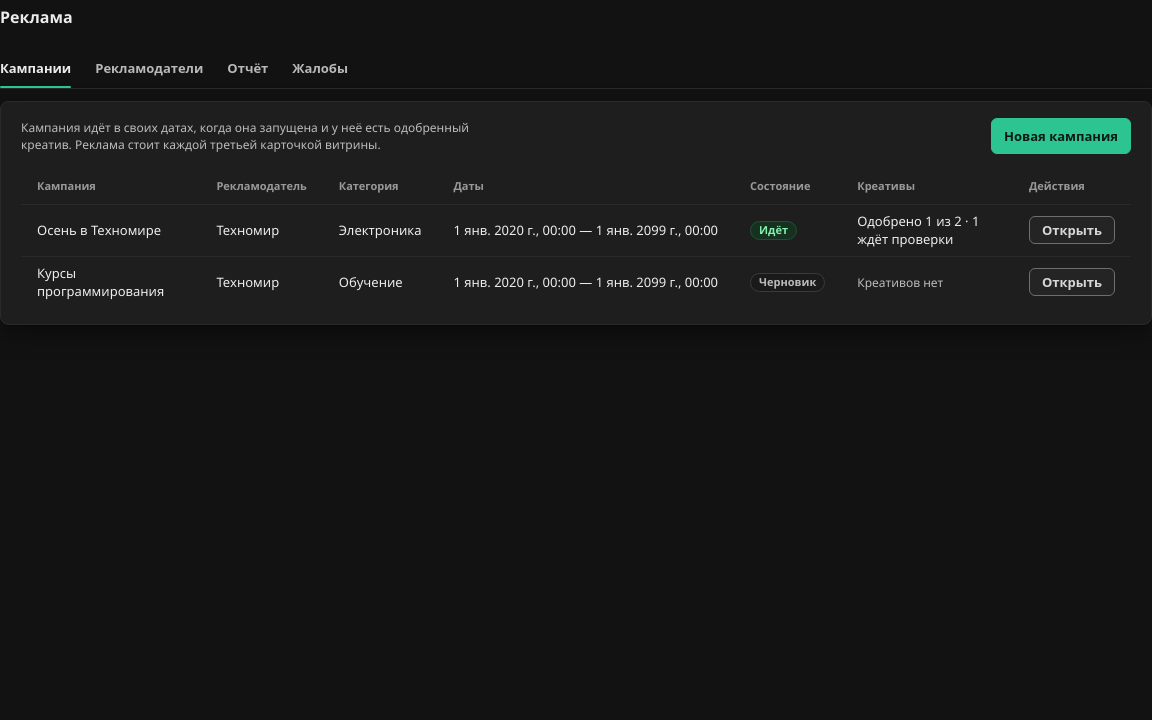
Scenario: AdsScreen — кампании › в списке категорий — здоровье, финансы и социальная реклама; у каждой сказано условие закона
Expected: the text "Осень в Техномире" is shown, [21, 204, 200, 256]
Click the button "Новая кампания" at x=1061, y=136, box [991, 118, 1131, 154]
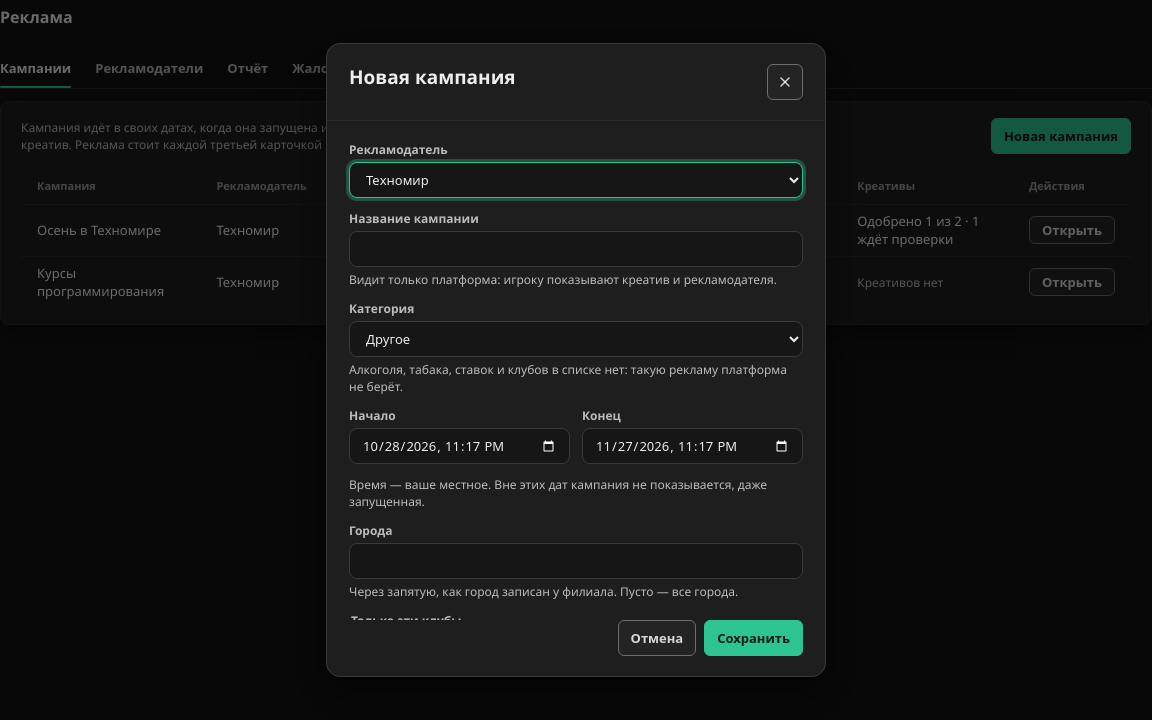
Select "Финансы" in the dropdown labelled "Категория" at x=576, y=339, box [349, 321, 803, 357]
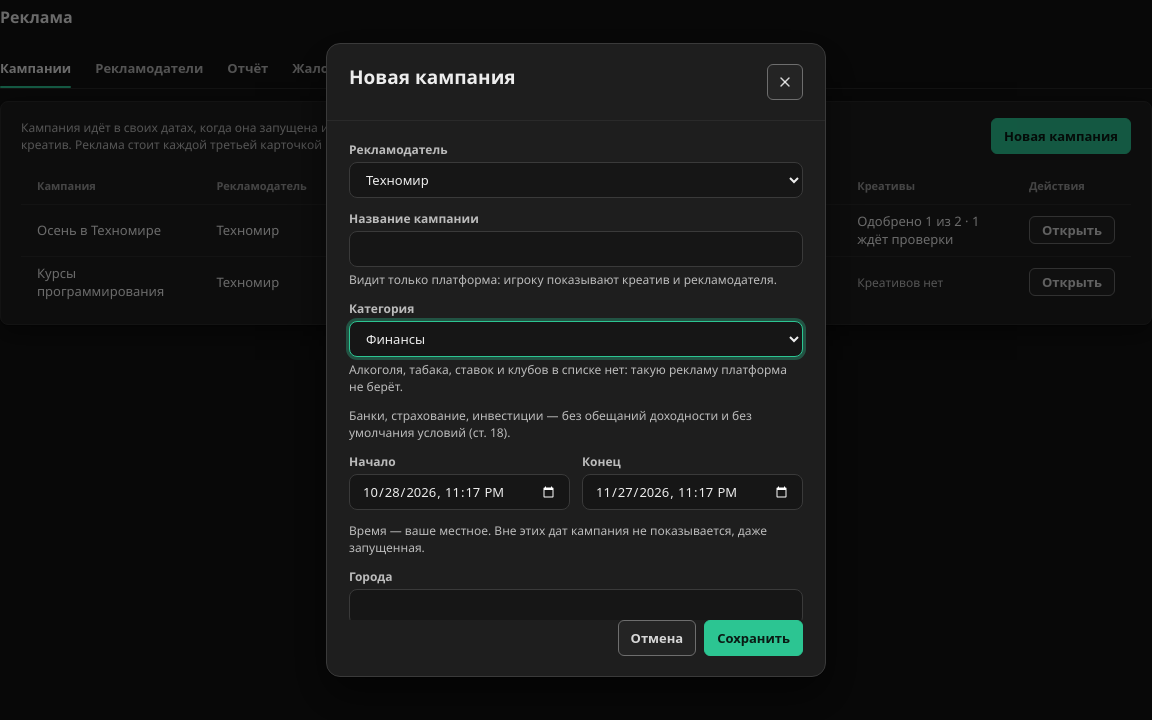
Expected: the text "без обещаний доходности" is shown, [349, 407, 752, 441]
Select "Социальная реклама" in the dropdown labelled "Категория" at x=576, y=339, box [349, 321, 803, 357]
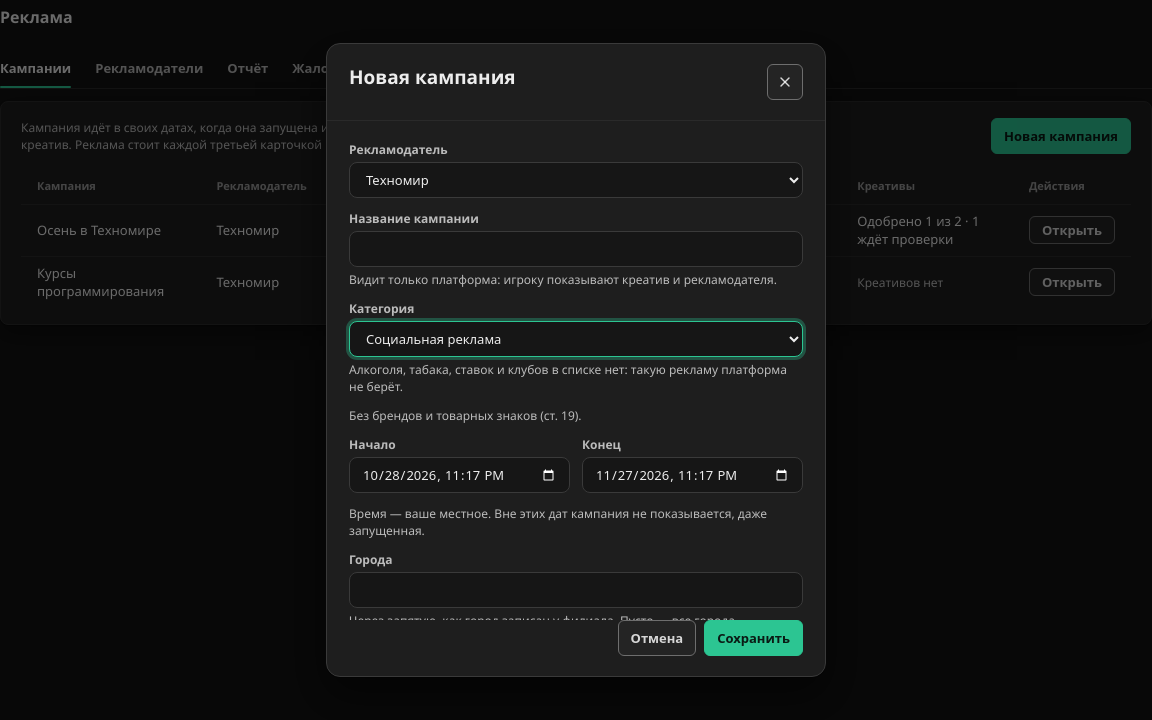
Expected: the text "Без брендов и товарных знаков (ст. 19)." is shown, [349, 407, 582, 424]
